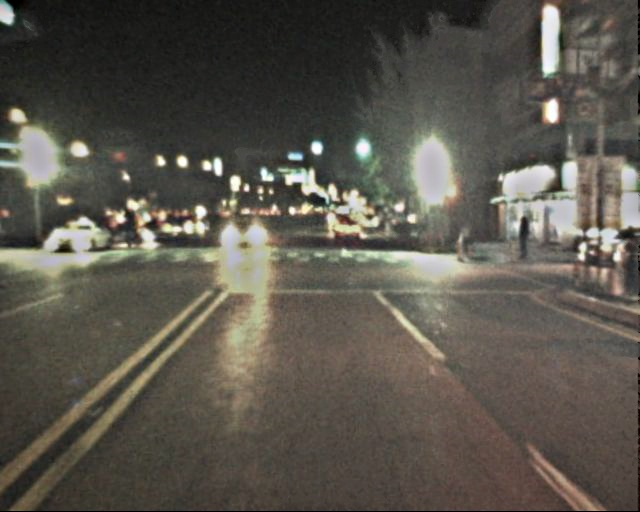person: (515, 214, 536, 265), (456, 215, 475, 262)
